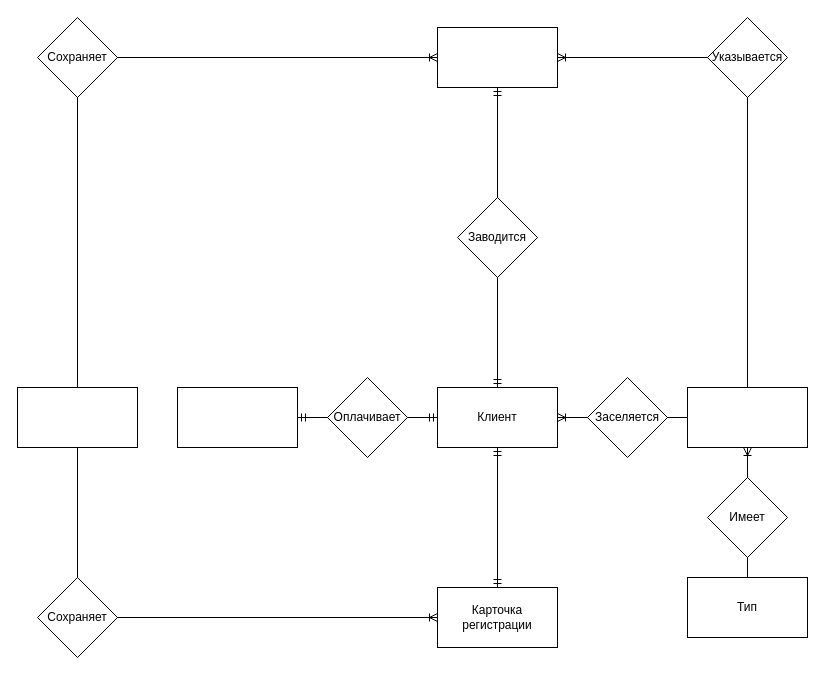
This 825x675 diagram has some shape labels left out. Here are the shapes that lost their labels. From the top down, the centre of each, then its label:
(x=497, y=57): Расчетная карточка
(x=77, y=417): Архив
(x=237, y=417): Счет
(x=747, y=417): Номер
